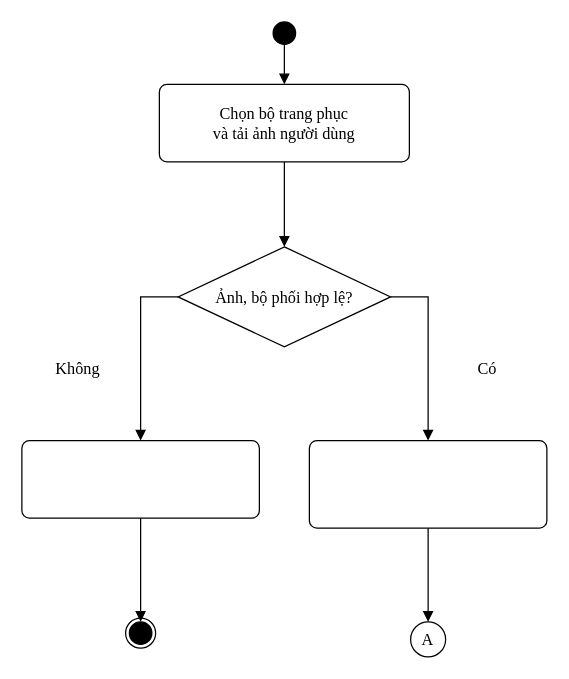
The diagram is 569 pixels wide and 679 high, and some of its shapes have lost their labels. Each missing label, with the centre of its shape:
"Thông báo dữ liệu sai" goes at pixel 140 478.
"Tạo phiên xử lý nếu dữ liệu sẵn sàng" goes at pixel 427 483.
